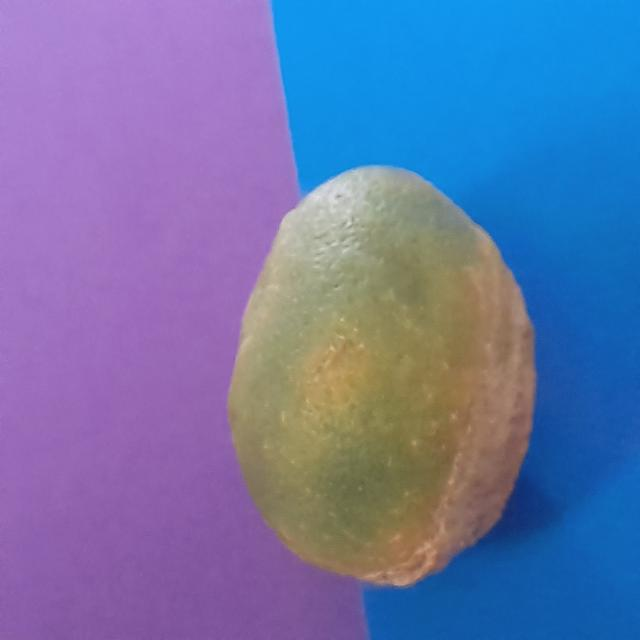thrips: (231, 164, 554, 610)
